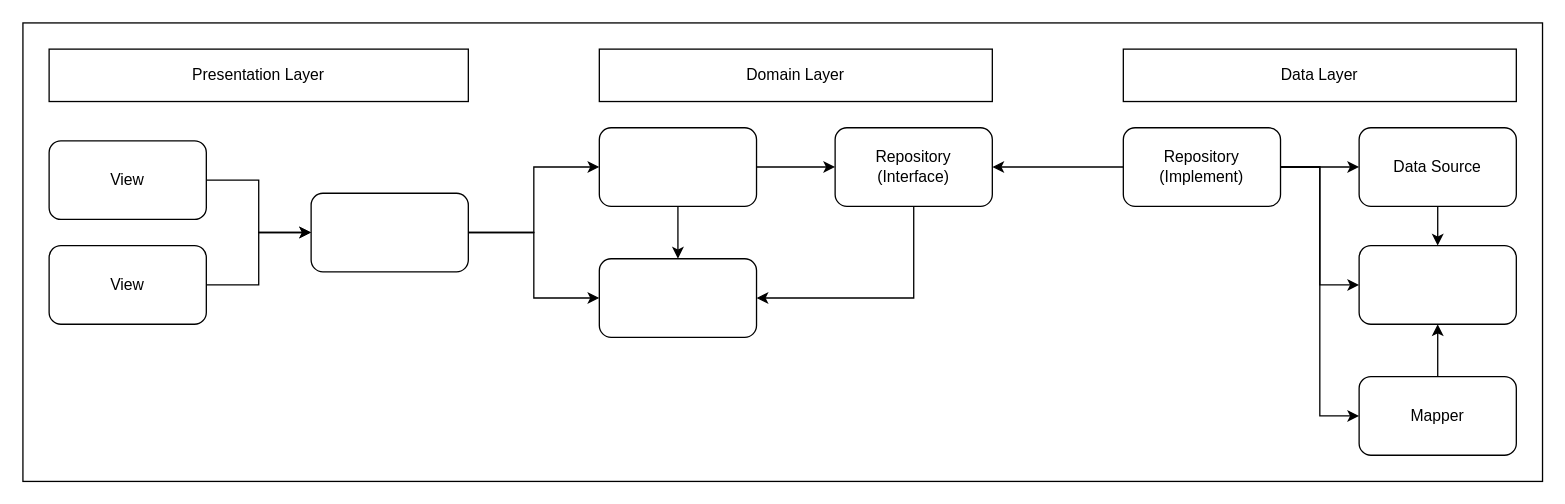
The diagram is 1565 pixels wide and 504 high, and some of its shapes have lost their labels. Each missing label, with the box of its shape:
Entity: (1358, 244, 1516, 324)
Model: (598, 257, 757, 337)
Use Case: (598, 126, 757, 206)
View Model: (310, 192, 468, 272)
